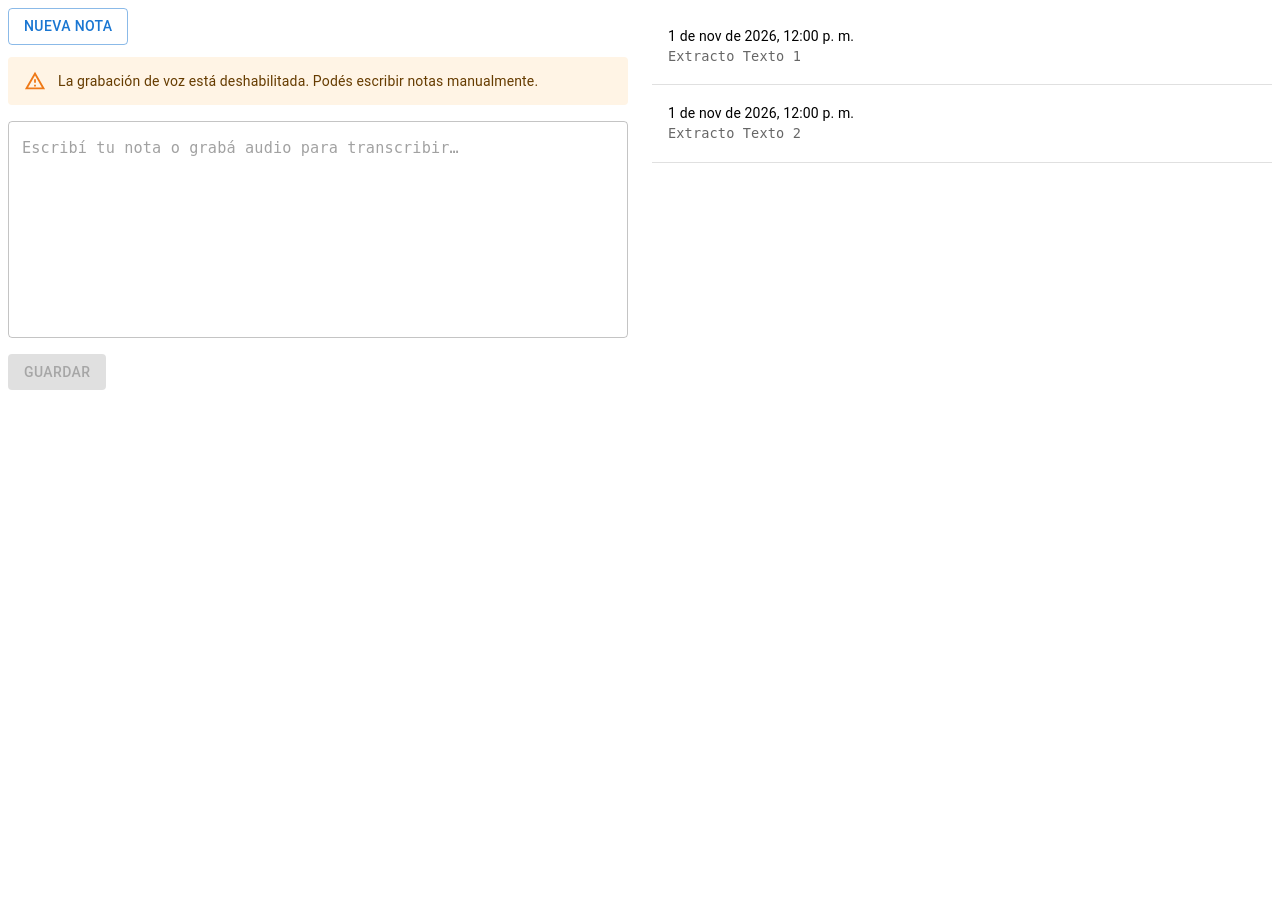
Test: VoicePage › cambios sin guardar al cambiar de nota (B-2) › Guardar y continuar guarda el texto vigente y luego abre la nota pendiente
Click the text "Extracto Texto 1": {"x": 734, "y": 56} [668, 48, 801, 64]
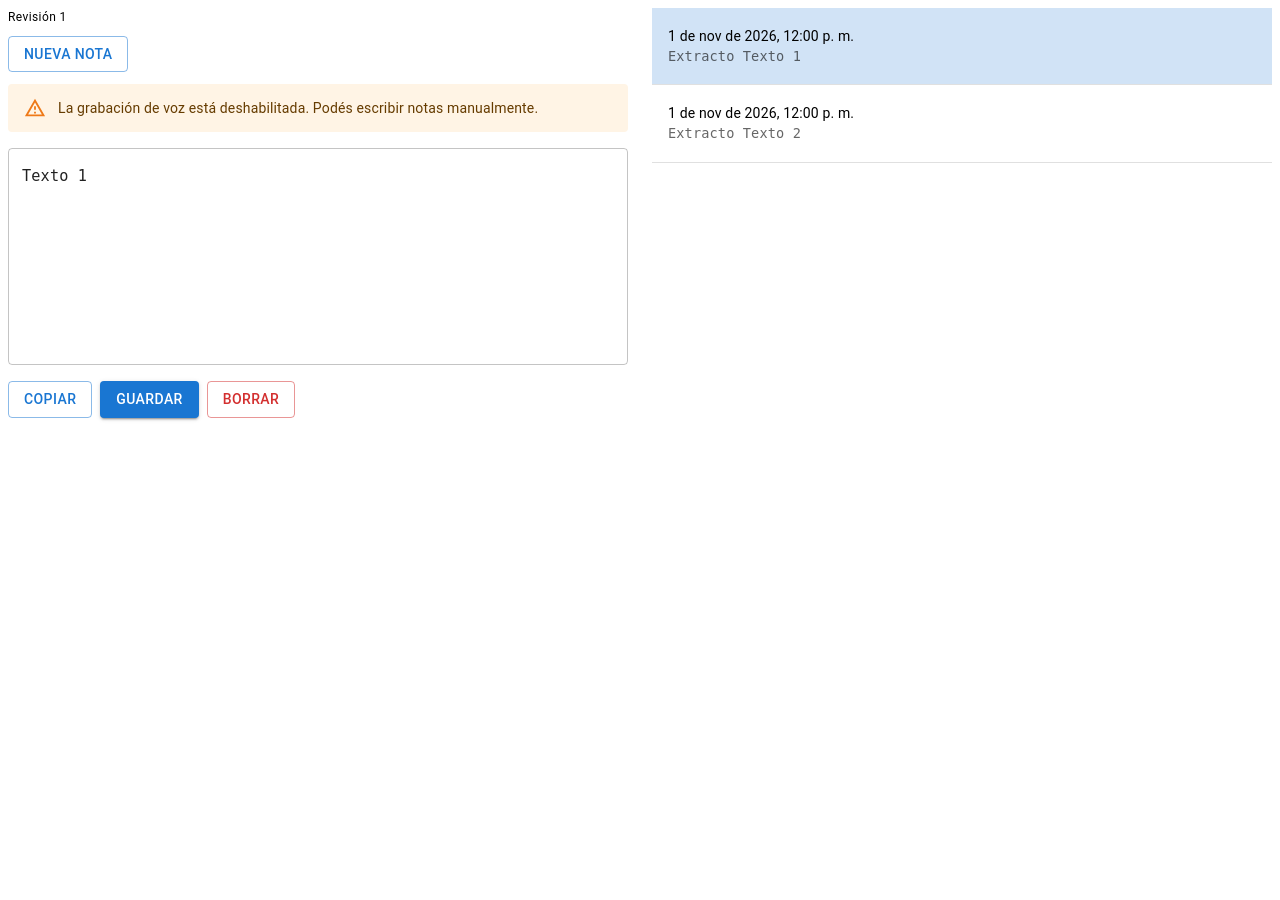
Expected: the text box named "Texto de la nota" holds "Texto 1"
In the text box named "Texto de la nota": {"x": 318, "y": 257} [22, 165, 614, 349], type " editado"
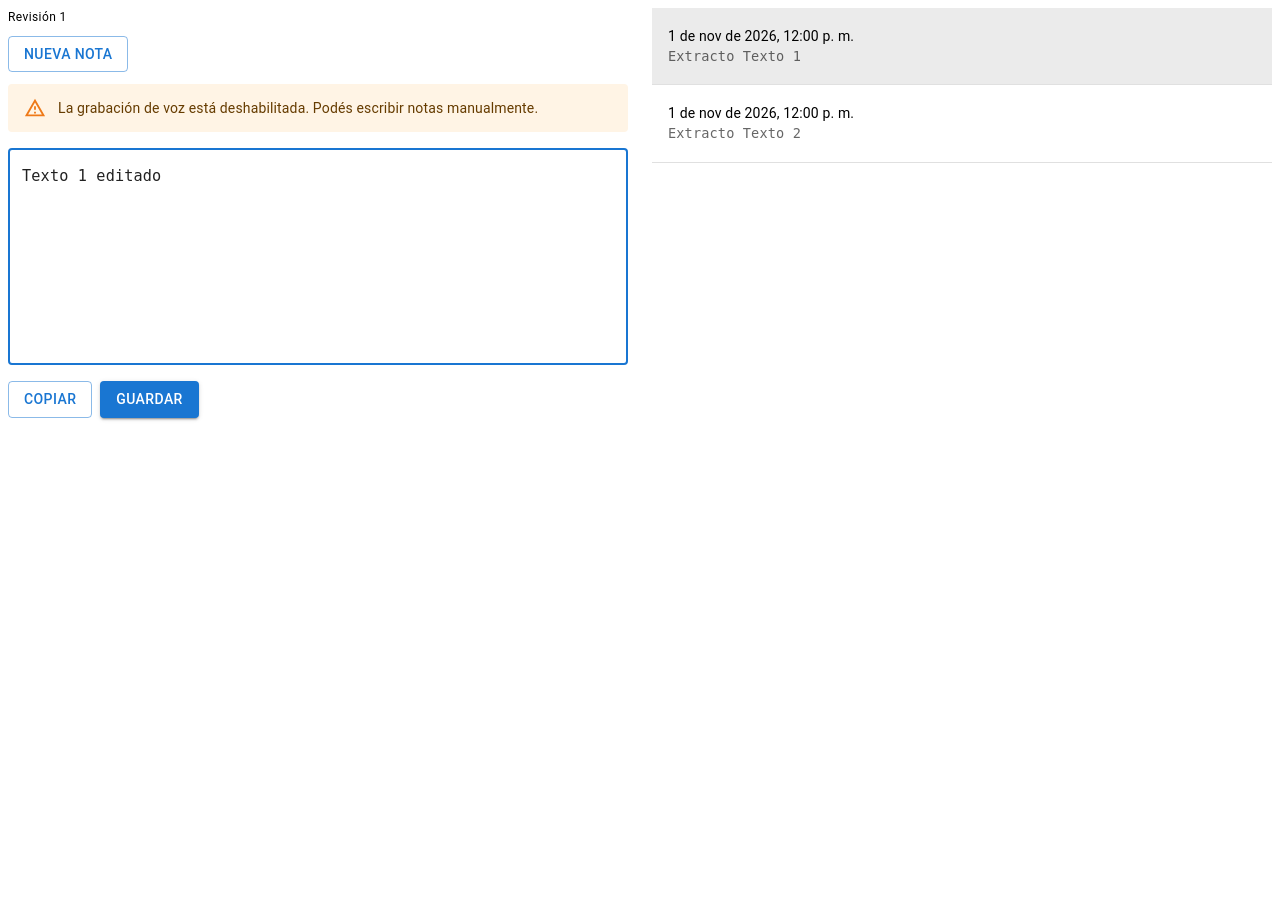
Expected: the text box named "Texto de la nota" holds "Texto 1 editado", [22, 165, 614, 349]
Click the text "Extracto Texto 2": {"x": 734, "y": 133} [668, 125, 801, 141]
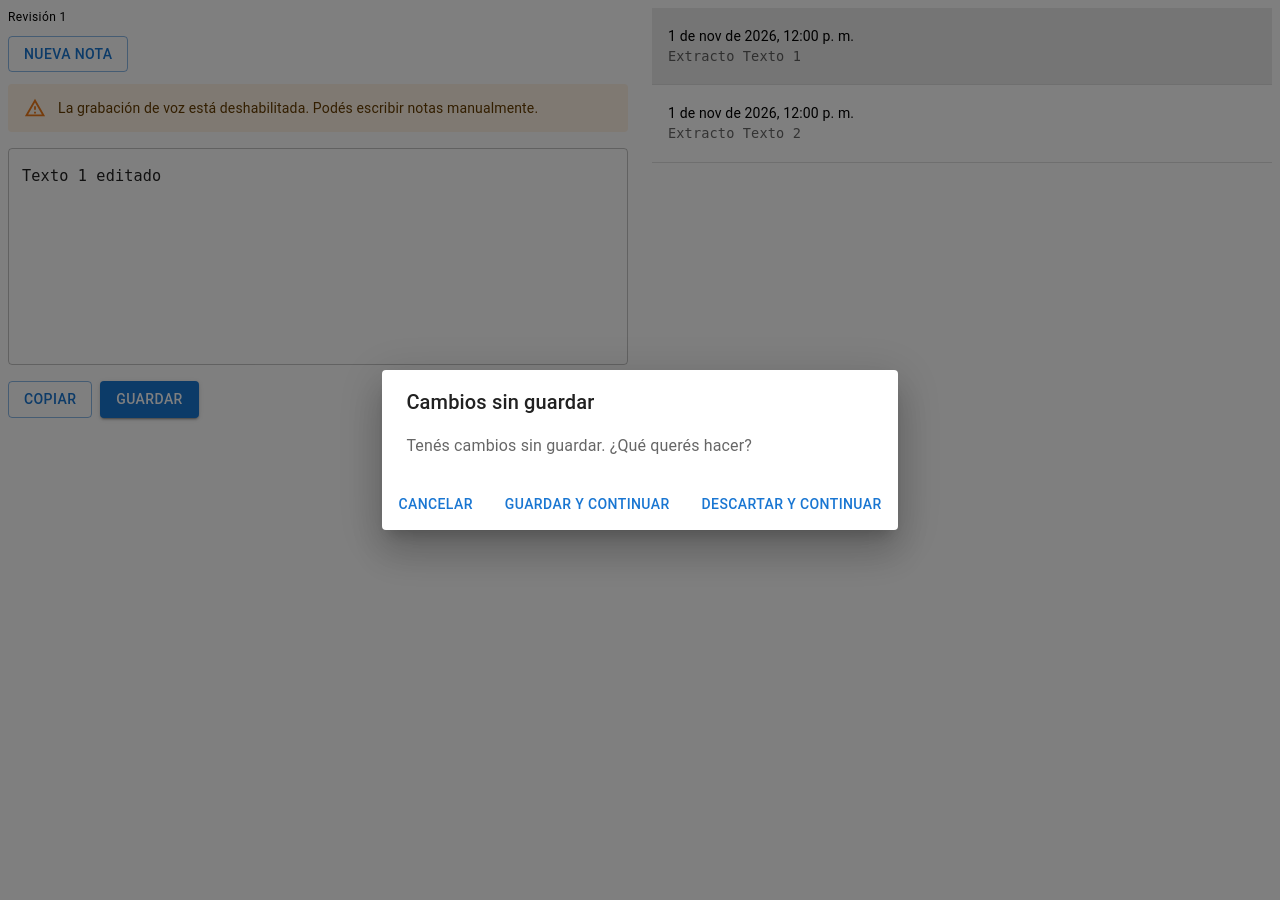
Click the button "Guardar y continuar": {"x": 587, "y": 504} [497, 486, 678, 522]
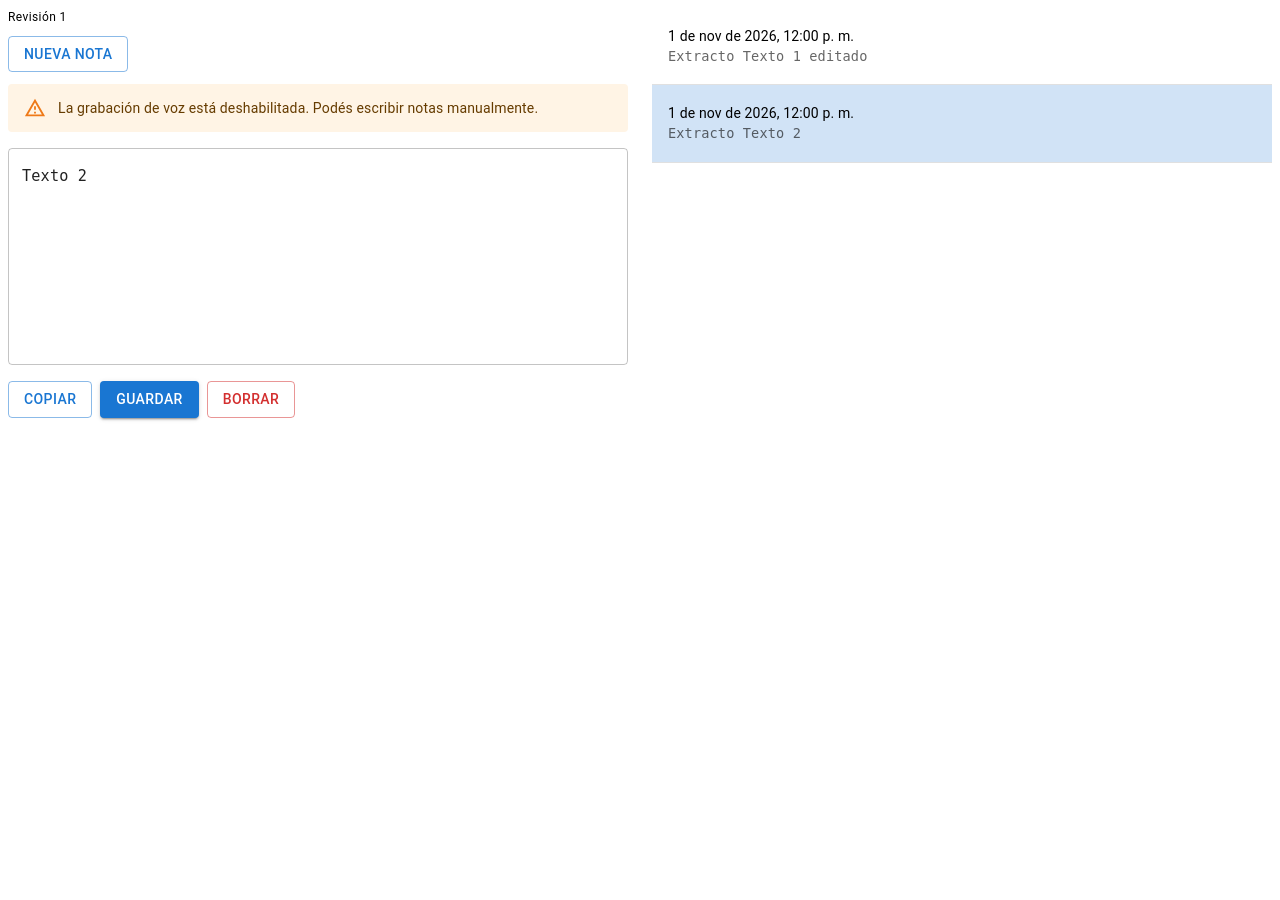
Expected: the text box named "Texto de la nota" holds "Texto 2", [22, 165, 614, 349]
Expected: the dialog is gone
